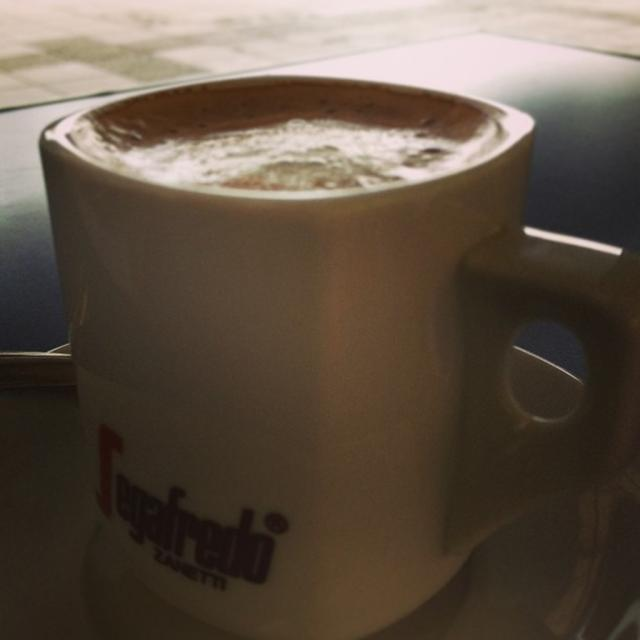Coffee: (64, 82, 507, 192)
